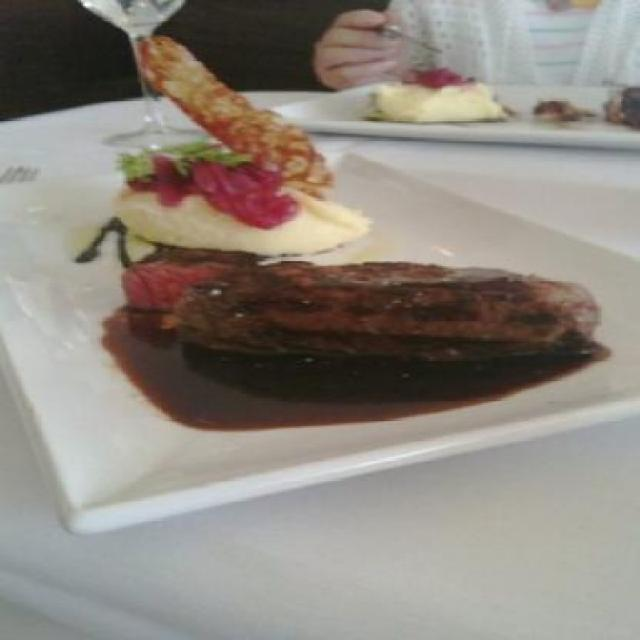Steak: (81, 246, 634, 412)
